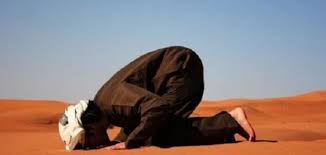sujud: (59, 46, 255, 154)
